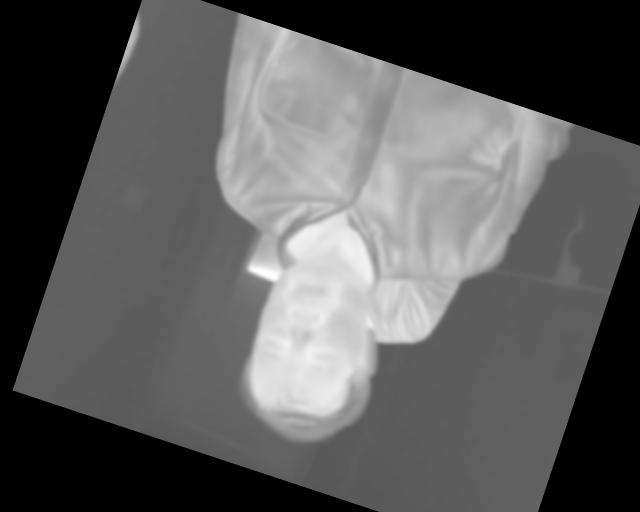face: (224, 246, 407, 463)
